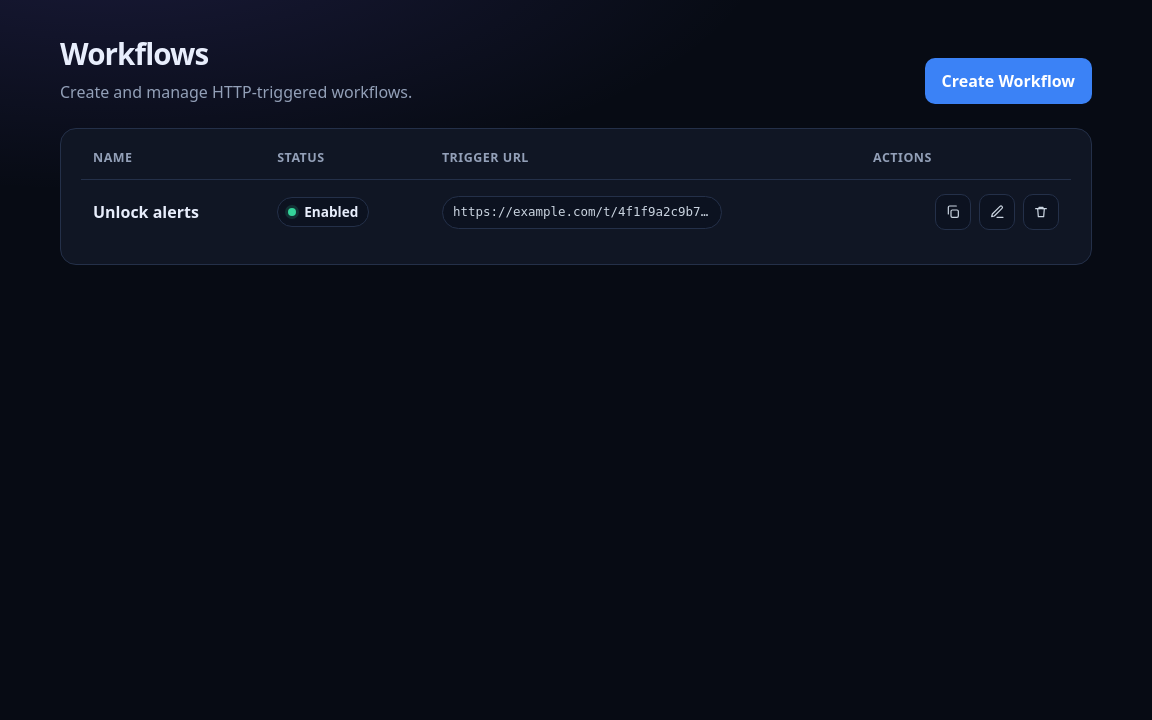
WorkflowList › disables a workflow with PATCH
The image size is (1152, 720).
Click the button with aria-label "Disable Unlock alerts".
click(323, 212)  # box left=277, top=197, right=369, bottom=227
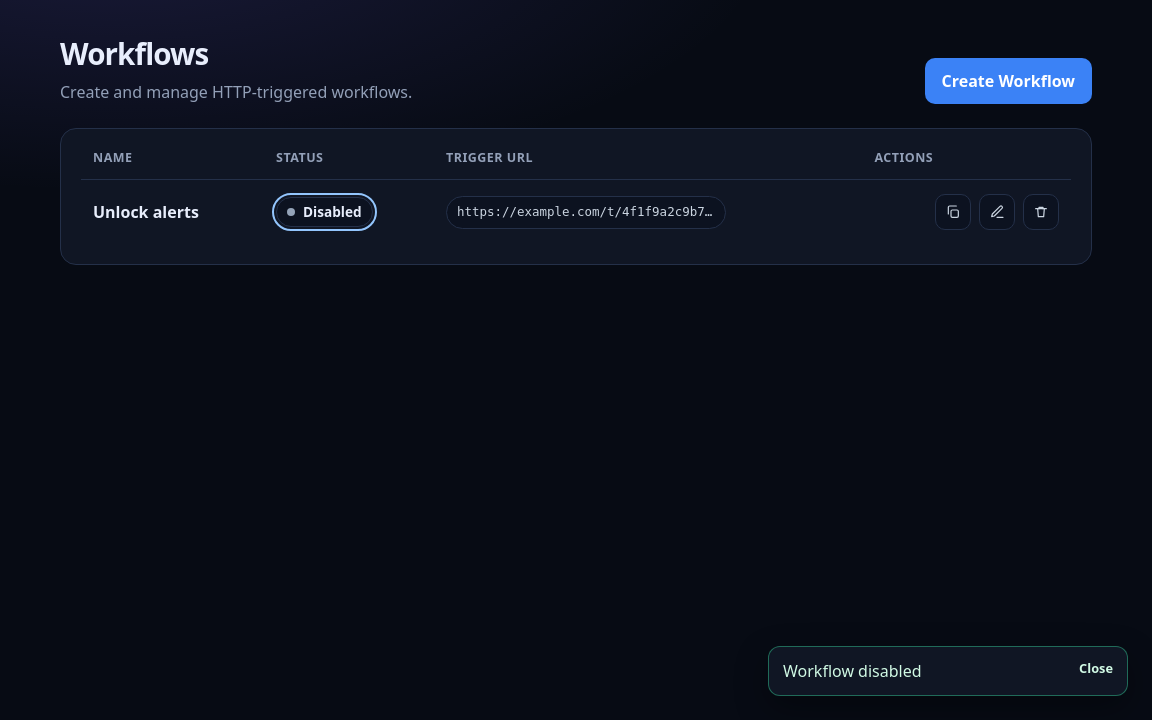
Check: the button "Disabled" is shown, box left=276, top=197, right=373, bottom=227
Check: the text "Workflow disabled" is shown, box left=783, top=659, right=922, bottom=683
